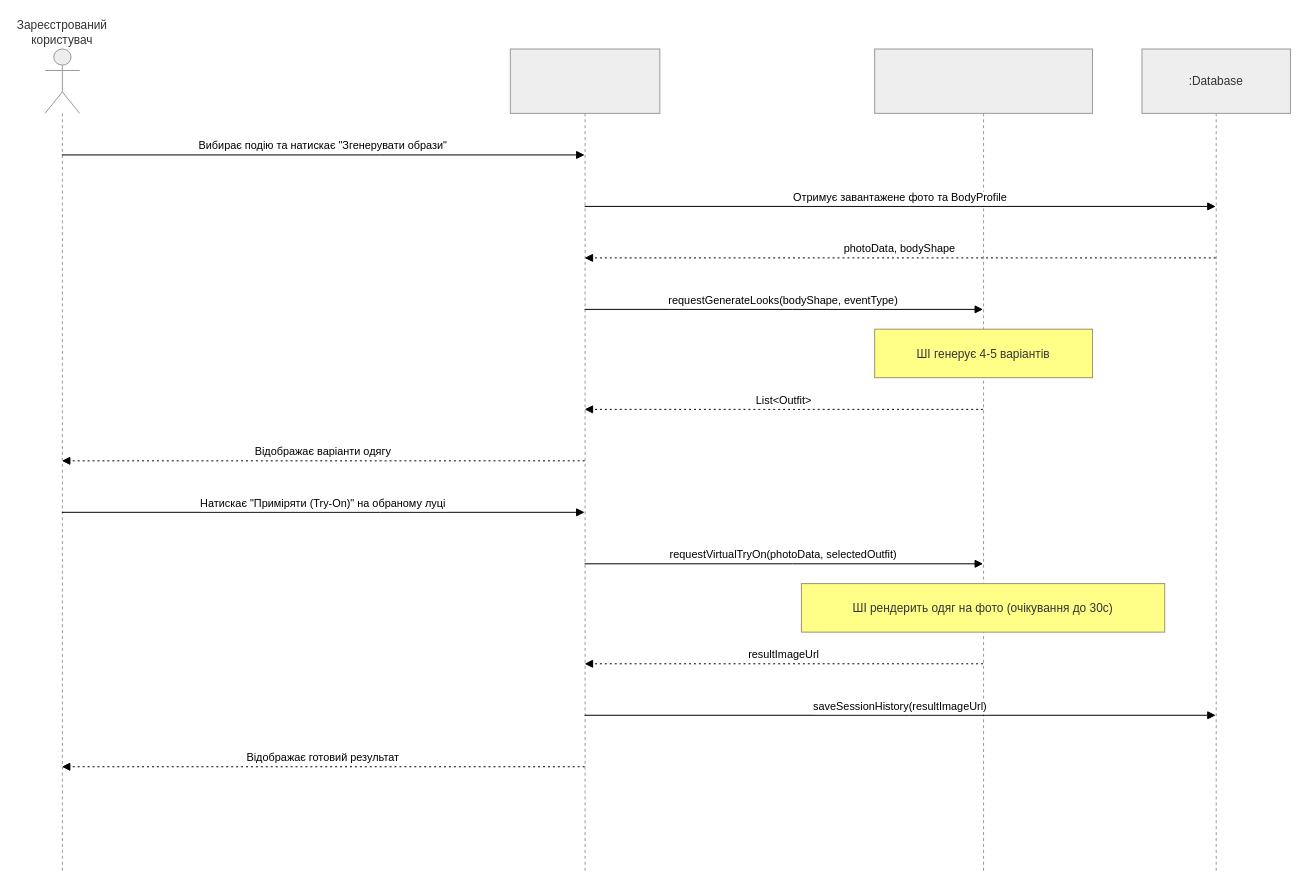
The diagram is 1308 pixels wide and 888 high, and some of its shapes have lost their labels. Here are the shapes that lost their labels. From the top down, the box of each, then its label:
(509, 48, 660, 871): :System (Style You)
(874, 48, 1092, 871): :AI Model (Computer Vision)
